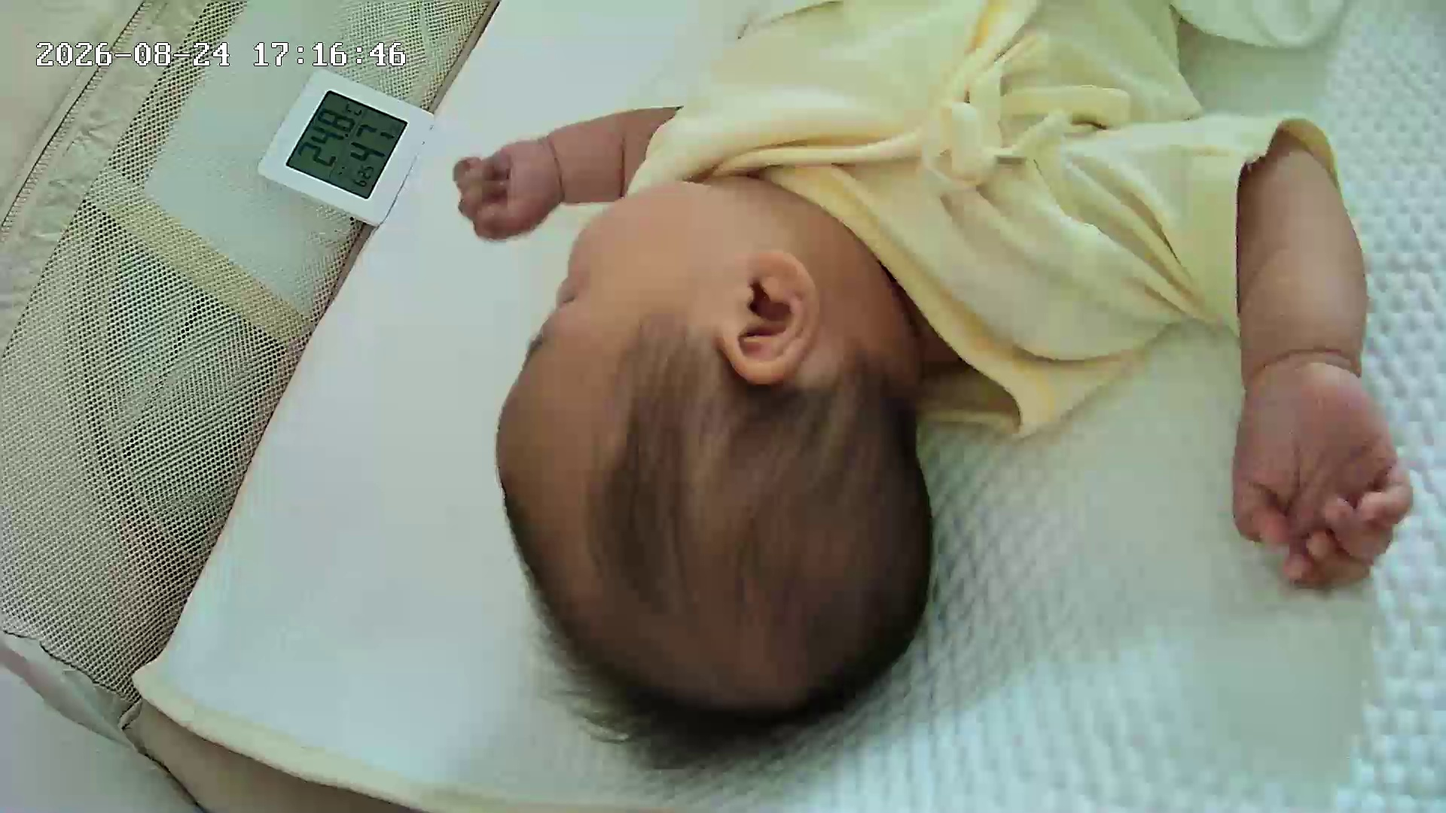baby: (425, 0, 1397, 780)
baby_face: (494, 156, 953, 755)
